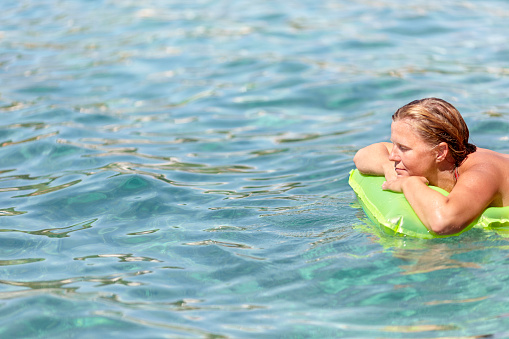deitado: (357, 87, 498, 229)
